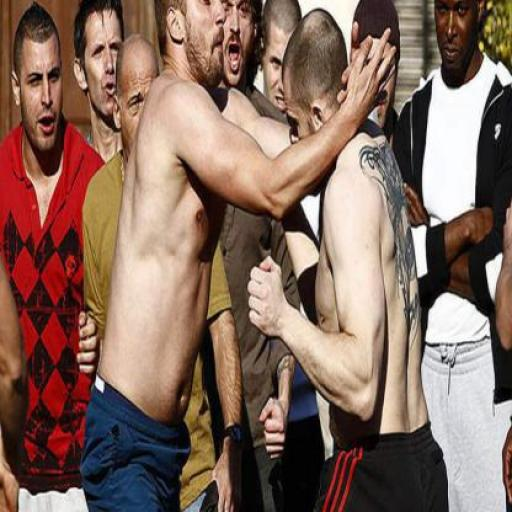Fighting: (80, 0, 454, 512)
